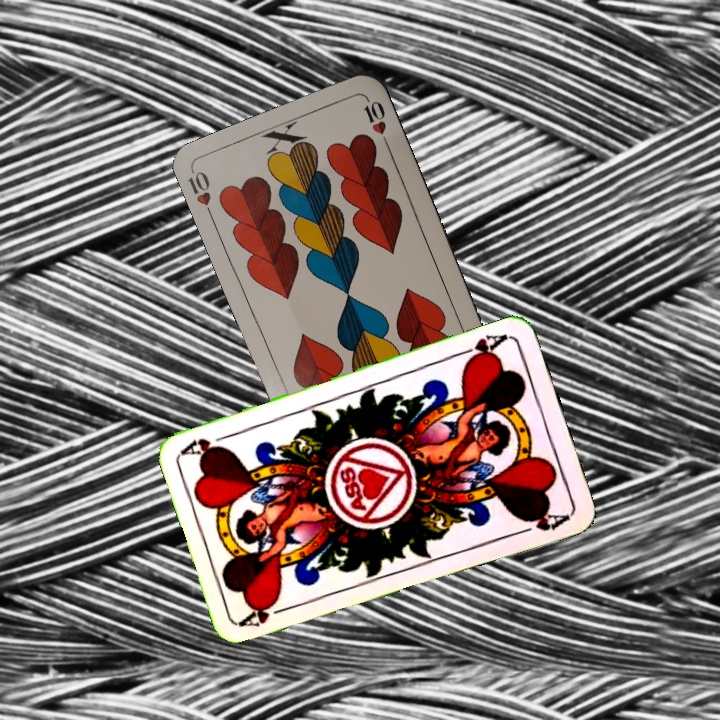H10: (184, 167, 217, 224)
HA: (454, 329, 512, 367), (237, 595, 295, 630)
